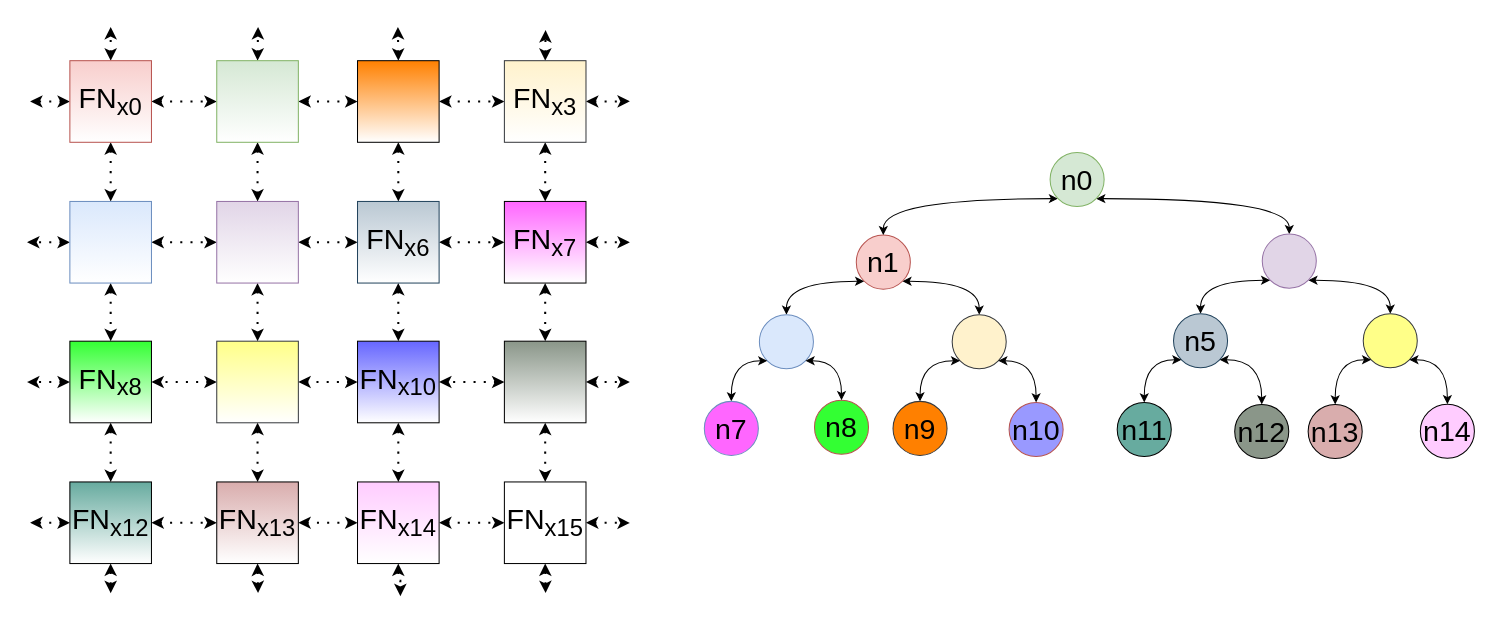
Some shapes in this 1492 by 623 pixel diagram are drawn without their labels. Here are the shapes that lost their labels. From the top down, the centre of each, then its label:
At point (257, 101): "FN x1".
At point (397, 101): "FN x2".
At point (110, 241): "FN x4".
At point (257, 241): "FN x5".
At point (1288, 260): "n2".
At point (785, 341): "n3".
At point (978, 341): "n4".
At point (1389, 340): "n6".
At point (257, 381): "FN x9".
At point (544, 381): "FN x11".
